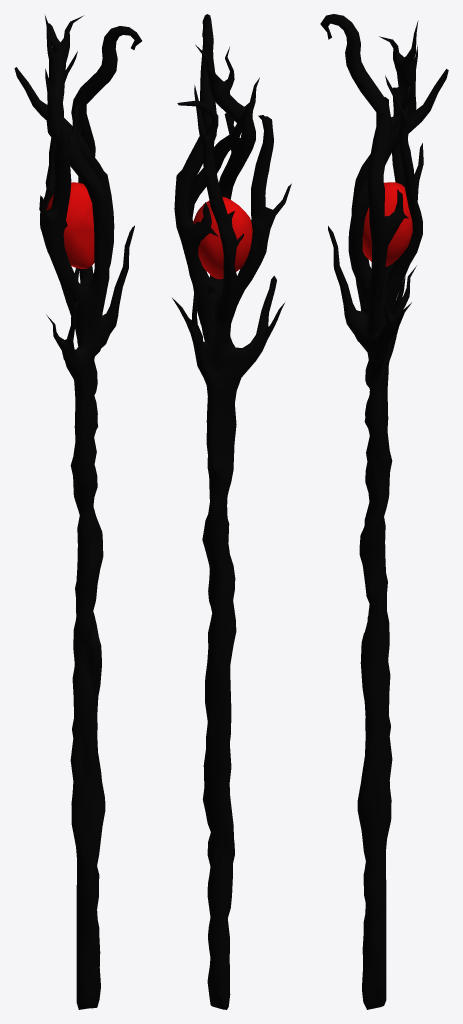
Rendered from Weapon_Staff.fbx.
The picture shows the model from 3 angles, left to right: view 1: azimuth 90°, elevation 25°; view 2: azimuth 210°, elevation 25°; view 3: azimuth 270°, elevation 25°; orthographic projection.
Parts seen in each view (by area): view 1: Staff; view 2: Staff; view 3: Staff.
Part boxes in pixels (bbox=[...]): Staff: bbox=[14, 14, 141, 1009]; Staff: bbox=[172, 14, 291, 1009]; Staff: bbox=[320, 14, 448, 1009].
Bounding box in the file's own units: 27.97 × 239 × 27.99.
